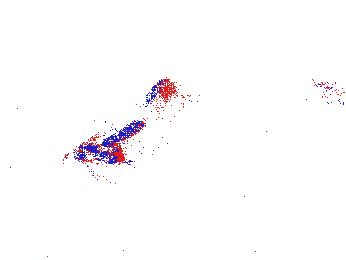glassfish: (72, 78, 174, 164), (307, 75, 346, 106)
